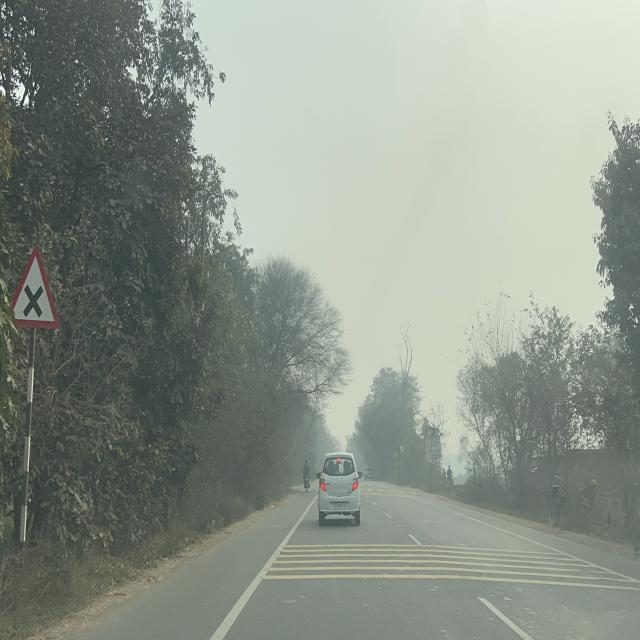CROSS_ROAD: (6, 242, 61, 331)
